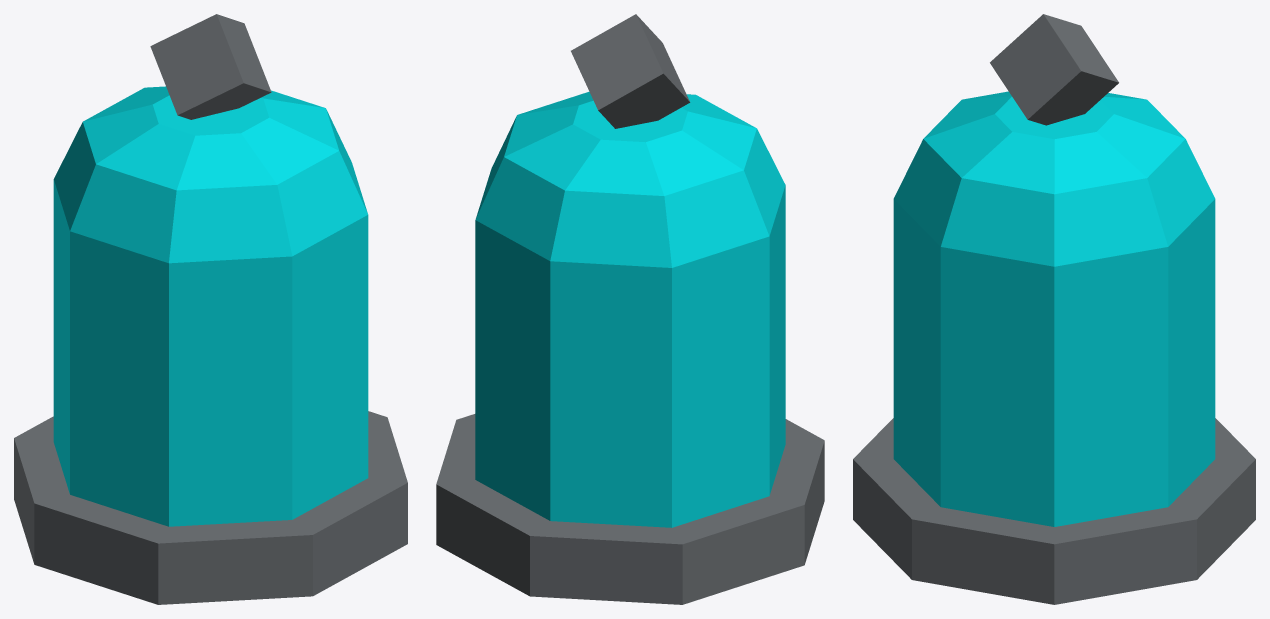
The model's file is LightGreyMetalDecorationSmallScienceItem2.fbx.
The picture shows the model from 3 angles, left to right: view 1: azimuth 30°, elevation 25°; view 2: azimuth 150°, elevation 25°; view 3: azimuth 270°, elevation 25°; orthographic projection.
Parts seen in each view (by area): view 1: LightGreyMetalDecorationSmallScienceItem2; view 2: LightGreyMetalDecorationSmallScienceItem2; view 3: LightGreyMetalDecorationSmallScienceItem2.
Boxes of the visible parts, left/top/right/bottom form: LightGreyMetalDecorationSmallScienceItem2: left=14, top=14, right=407, bottom=604; LightGreyMetalDecorationSmallScienceItem2: left=436, top=14, right=824, bottom=604; LightGreyMetalDecorationSmallScienceItem2: left=853, top=14, right=1255, bottom=604.
Size of the model in its own units: 104 by 143 by 104.
